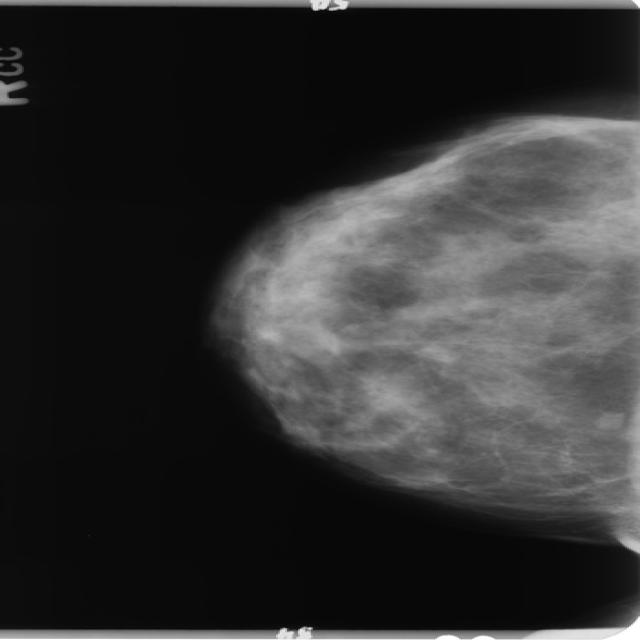tumour: (590, 409, 624, 430)
